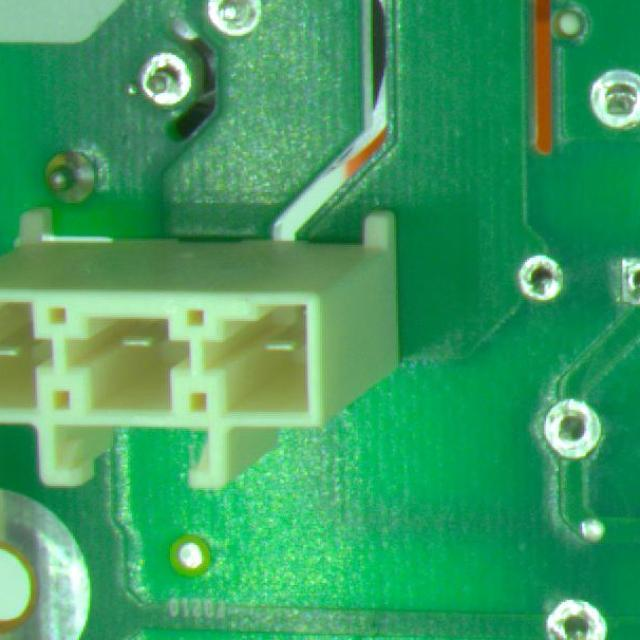Insufficient solder: (534, 396, 610, 463), (571, 61, 640, 134), (130, 43, 194, 116), (516, 252, 574, 312), (535, 596, 613, 640), (610, 234, 640, 312), (203, 0, 266, 35)
